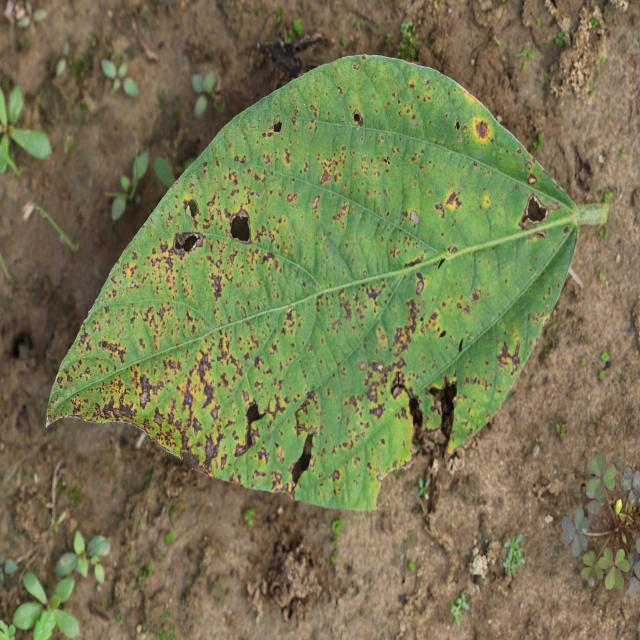Bacterial_Blight: (193, 228, 279, 331), (422, 372, 458, 458), (517, 192, 558, 231), (290, 433, 315, 488), (234, 416, 262, 458), (294, 389, 319, 436), (191, 346, 215, 391), (398, 299, 420, 342), (496, 338, 521, 375), (574, 144, 594, 184), (138, 373, 159, 409), (98, 337, 125, 359), (182, 196, 199, 224), (319, 158, 335, 185), (444, 189, 462, 211), (414, 271, 428, 296), (474, 120, 490, 141), (404, 254, 425, 269), (470, 289, 481, 302), (311, 195, 320, 210), (527, 173, 538, 185), (382, 157, 390, 167), (455, 119, 461, 131)
Soybean: (46, 56, 605, 510)
